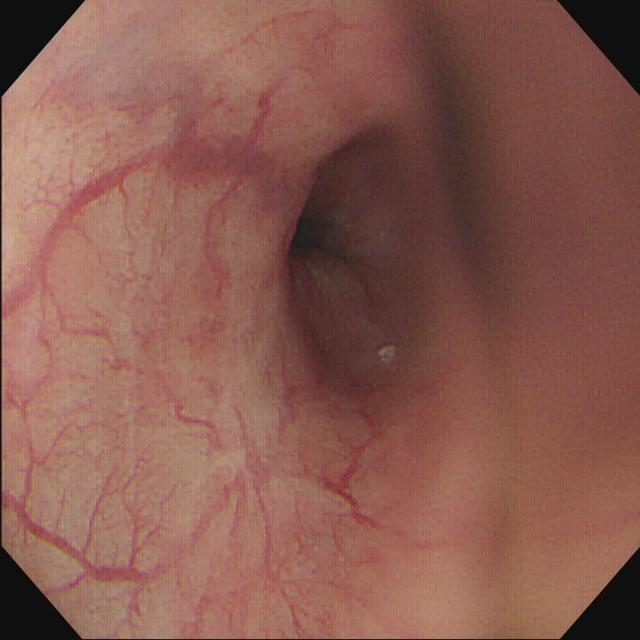A: (161, 96, 292, 202)
J: (378, 345, 398, 366)
